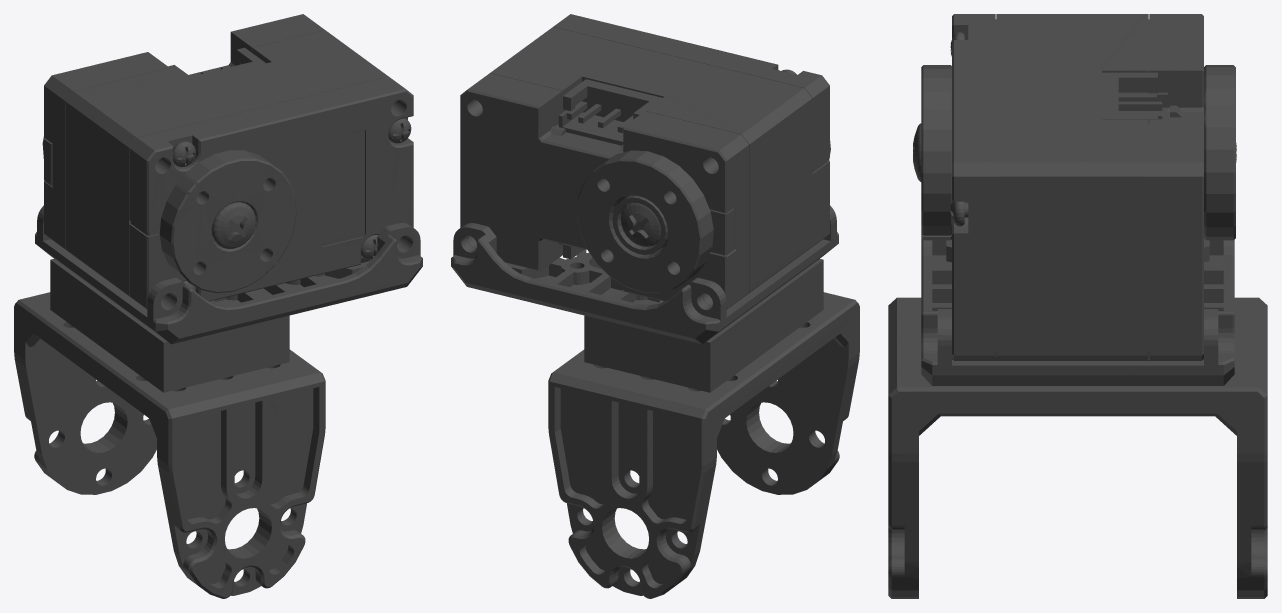
File: dip.dae
3 views of the same model, side by side, from view 1: azimuth 30°, elevation 25°; view 2: azimuth 150°, elevation 25°; view 3: azimuth 270°, elevation 25° (orthographic). The views are drawn at different scales.
Visible parts, largest first — view 1: node; view 2: node; view 3: node.
Boxes of the visible parts, box(x1,y1,x2,y2) form: node: box(14, 14, 422, 598); node: box(451, 14, 859, 598); node: box(888, 14, 1267, 598).
Size of the model in its own units: 0.0345 by 0.054 by 0.0346.
Materials: 1 (1 with a texture image).
